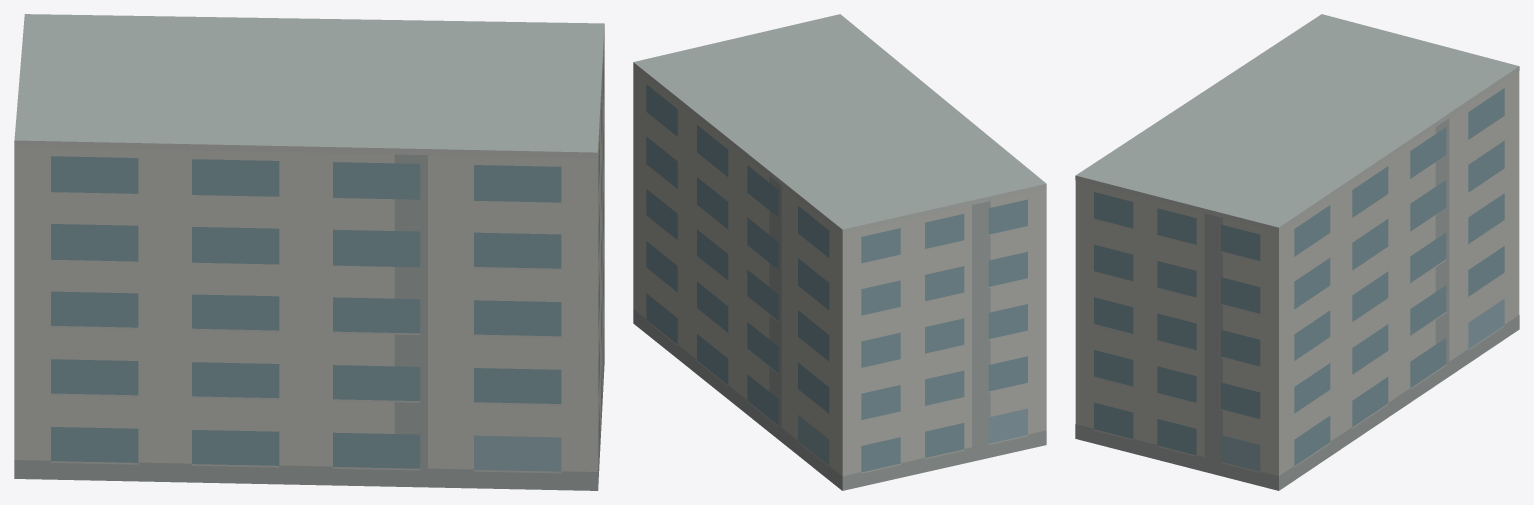
The model's file is survey-upis-32690596.glb.
3 views of the same model, side by side, from view 1: azimuth 30°, elevation 25°; view 2: azimuth 150°, elevation 25°; view 3: azimuth 270°, elevation 25° (orthographic). The views are drawn at different scales.
Visible parts, largest first — view 1: survey-upis-32690596.tmp; view 2: survey-upis-32690596.tmp; view 3: survey-upis-32690596.tmp.
Boxes of the visible parts, bbox=[...] form: survey-upis-32690596.tmp: bbox=[14, 14, 604, 490]; survey-upis-32690596.tmp: bbox=[633, 14, 1046, 490]; survey-upis-32690596.tmp: bbox=[1075, 14, 1519, 490].
Bounding box in the file's own units: 23.33 × 13.4 × 20.49.
